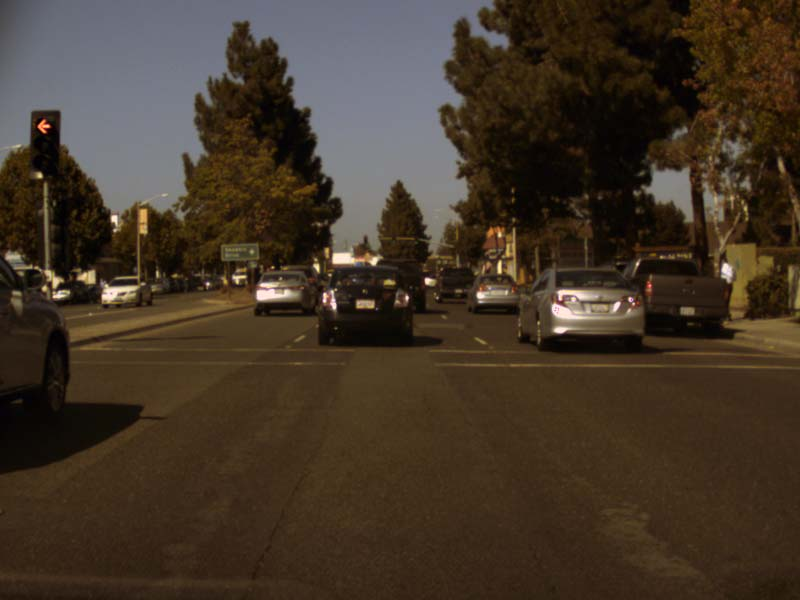Green: (413, 237, 418, 245)
Red: (33, 113, 59, 168), (363, 235, 367, 242)
